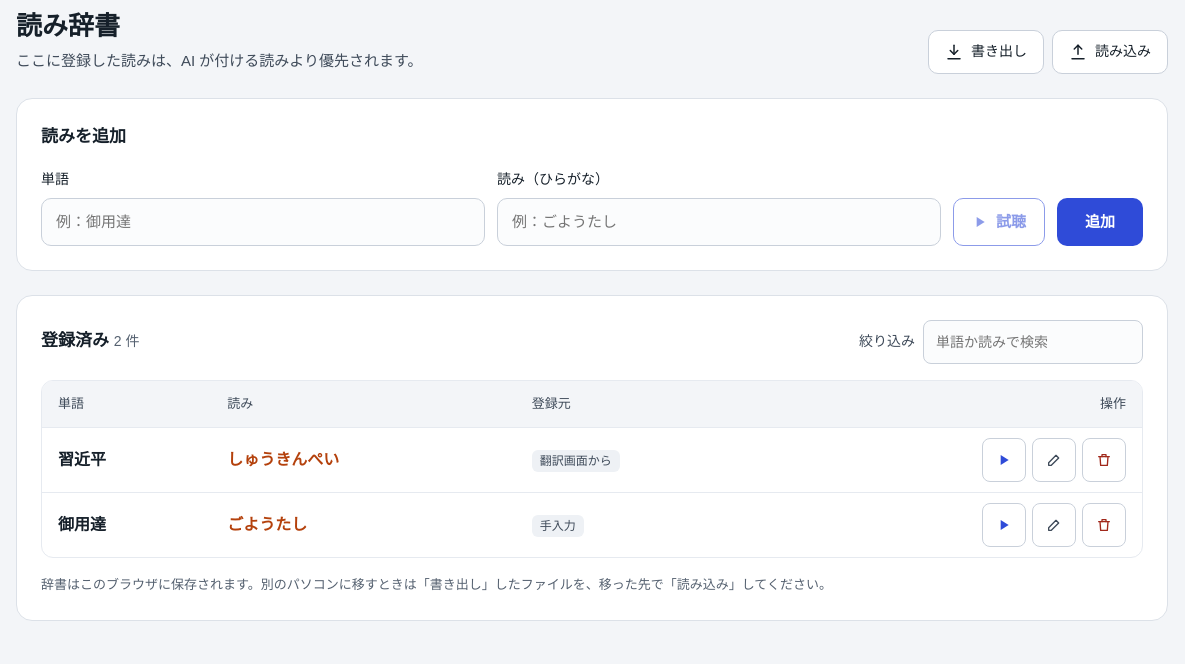
Dictionary 一覧 › 読みを編集して保存できる。登録元と登録日時は変えない
This screenshot has width=1185, height=664.
Step 1. Click the button named "習近平 を編集" → (1054, 460), box [1032,438,1076,482]
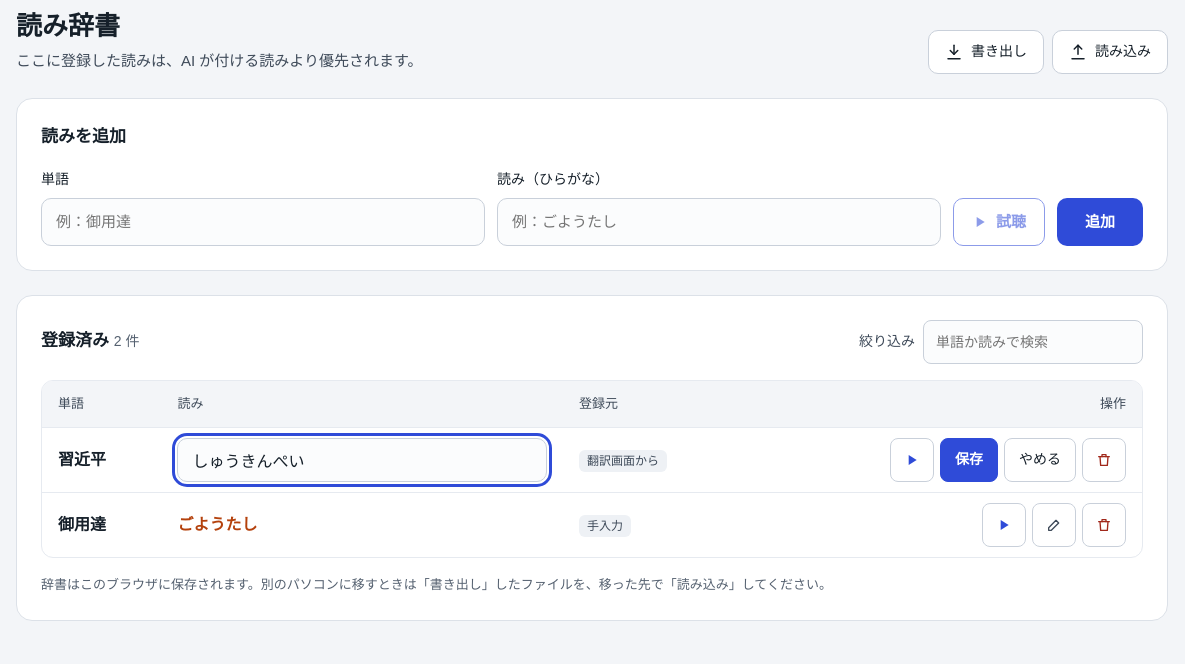
Step 2. Replace the text in the field named "習近平 の読み" with "しゅう・きんぺい" → (362, 460), box [177,438,547,482]
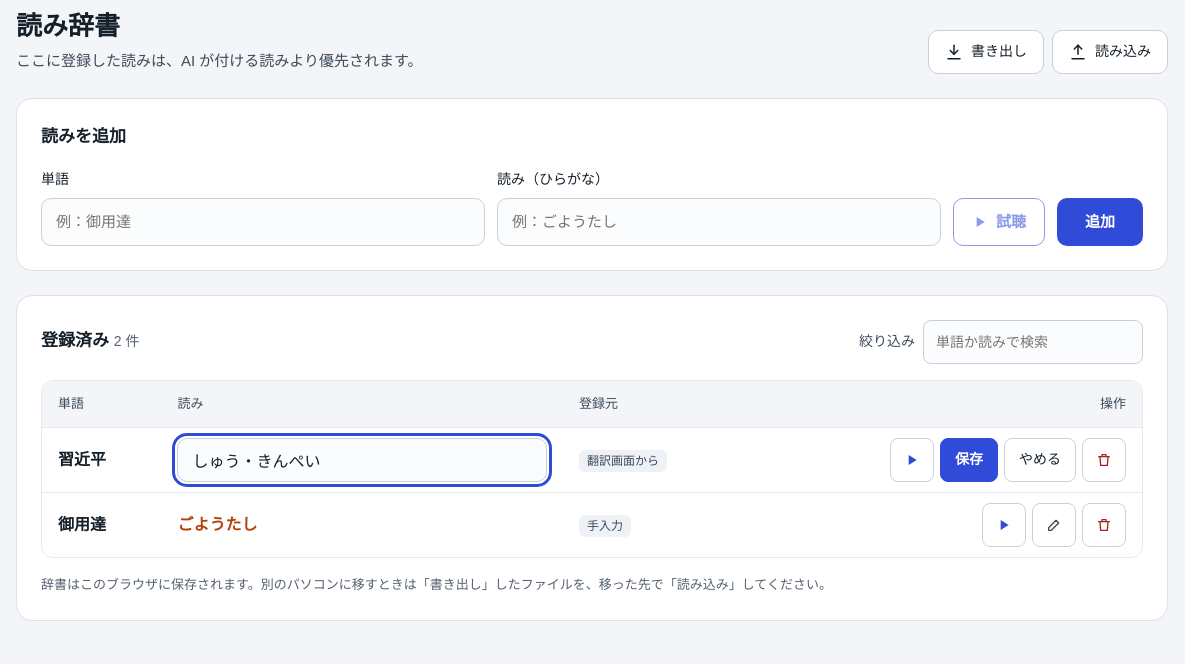
Step 3. Click the button "保存" → (969, 460), box [940,438,998,482]
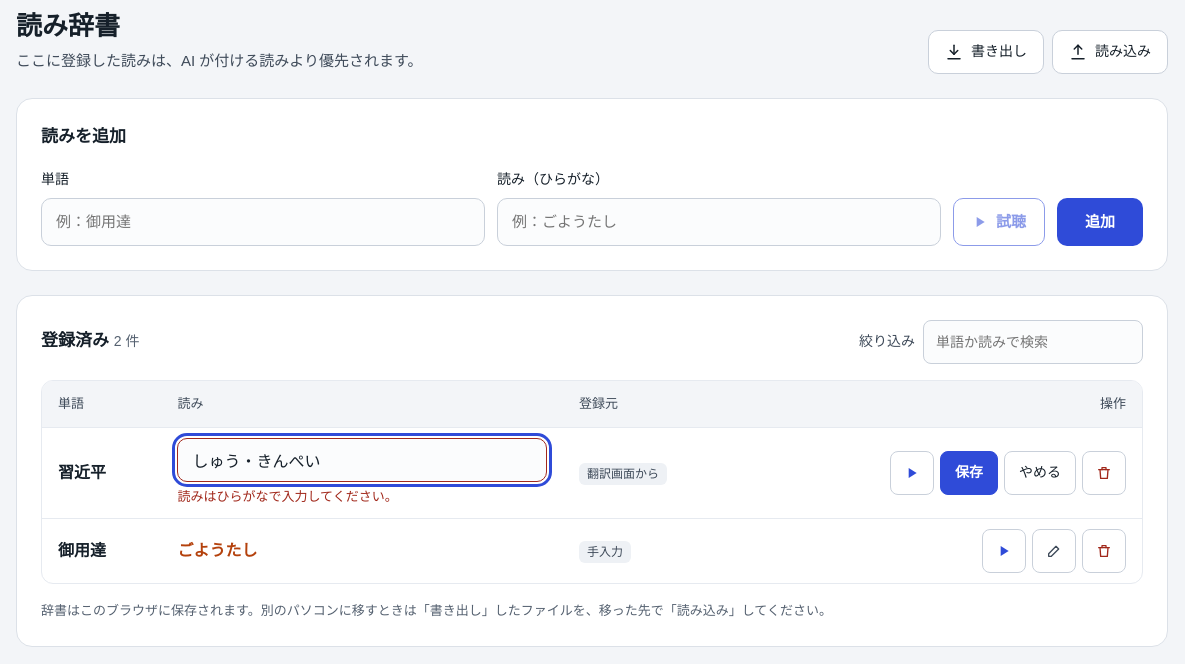
Now the message reads "読みはひらがなで入力してください。", box [177,489,398,504]
Step 4. Replace the text in the field named "習近平 の読み" with "しゅーきんぺー" → (362, 460), box [177,438,547,482]
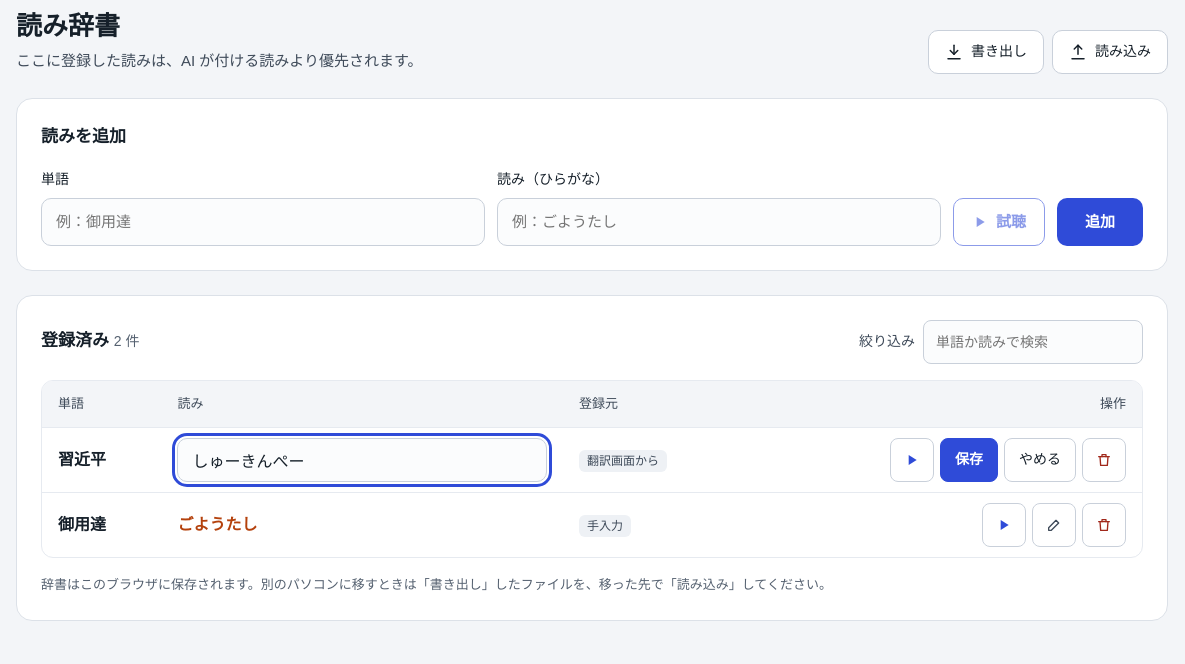
Step 5. Click the button "保存" → (969, 460), box [940,438,998,482]
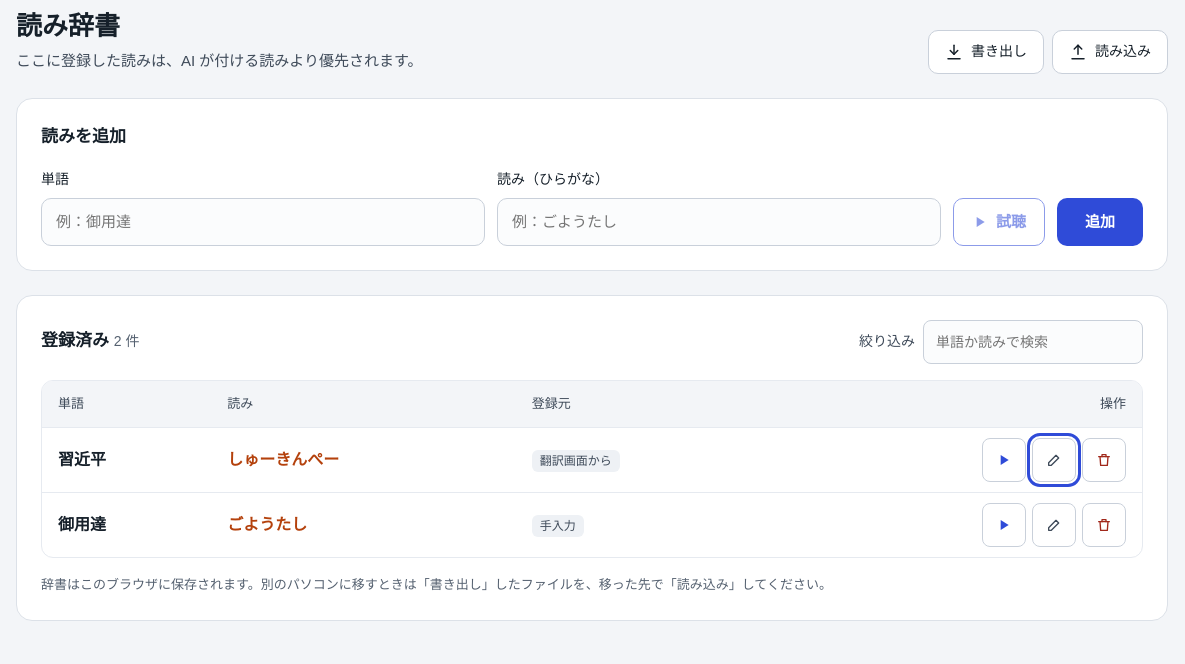
Now the cell "しゅーきんぺー" is shown, box [211,427,516,492]
